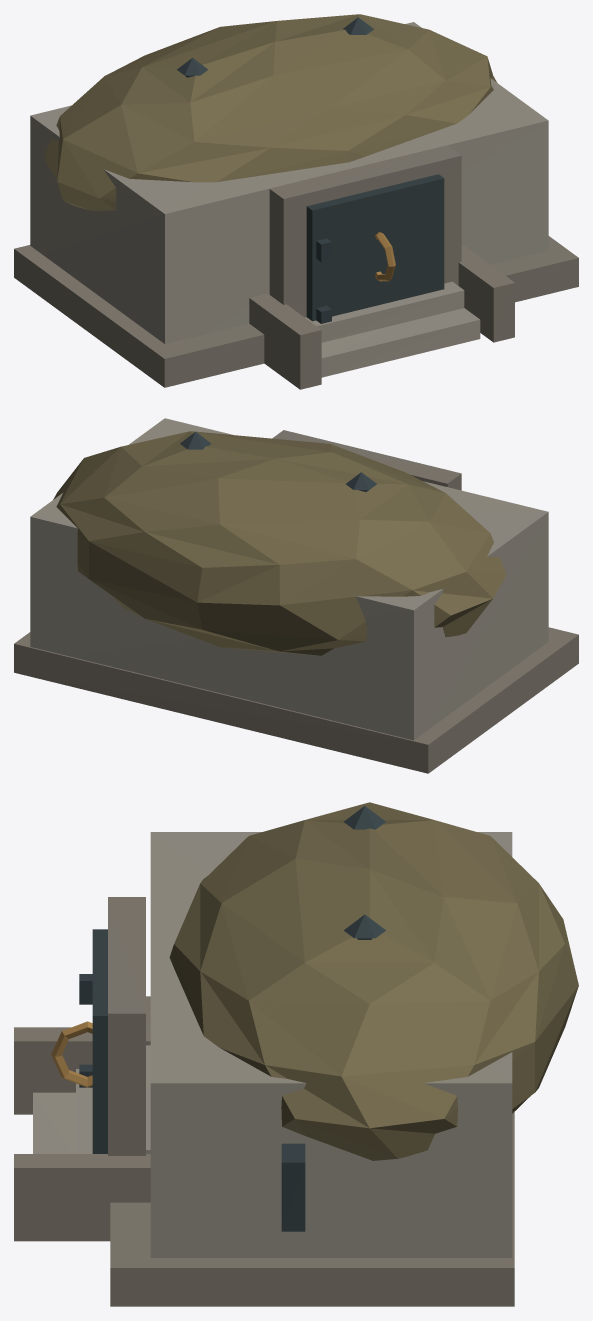
Rendered from seed-vault.source.glb.
The picture shows the model from 3 angles, top to bottom: view 1: azimuth 30°, elevation 25°; view 2: azimuth 150°, elevation 25°; view 3: azimuth 270°, elevation 25°; orthographic projection. The views are drawn at different scales.
Parts seen in each view (by area): view 1: seed-vault-low-faceted-earth-cover-mesh, seed-vault-reinforced-vault-body-mesh, seed-vault-sealed-dark-metal-hatch-mesh, seed-vault-stone-foundation-mesh, seed-vault-reinforced-entrance-facade-mesh, seed-vault-concrete-entry-step-mesh (×2), seed-vault-low-entry-retaining-wall-mesh (×2), seed-vault-hatch-wheel-handle-mesh; view 2: seed-vault-low-faceted-earth-cover-mesh, seed-vault-reinforced-vault-body-mesh, seed-vault-stone-foundation-mesh, seed-vault-reinforced-entrance-facade-mesh; view 3: seed-vault-low-faceted-earth-cover-mesh, seed-vault-reinforced-vault-body-mesh, seed-vault-stone-foundation-mesh, seed-vault-low-entry-retaining-wall-mesh (×2), seed-vault-reinforced-entrance-facade-mesh, seed-vault-concrete-entry-step-mesh (×2), seed-vault-sealed-dark-metal-hatch-mesh, seed-vault-compact-service-panel-mesh, seed-vault-hatch-wheel-handle-mesh, seed-vault-ventilation-cap-mesh.
Part boxes in pixels (left/top/right/bottom): seed-vault-low-faceted-earth-cover-mesh: left=44, top=14, right=497, bottom=210; seed-vault-reinforced-vault-body-mesh: left=30, top=22, right=548, bottom=343; seed-vault-sealed-dark-metal-hatch-mesh: left=306, top=174, right=444, bottom=321; seed-vault-stone-foundation-mesh: left=14, top=236, right=578, bottom=387; seed-vault-reinforced-entrance-facade-mesh: left=269, top=145, right=461, bottom=317; seed-vault-concrete-entry-step-mesh (×2): left=305, top=281, right=480, bottom=377; seed-vault-low-entry-retaining-wall-mesh (×2): left=249, top=245, right=514, bottom=389; seed-vault-hatch-wheel-handle-mesh: left=375, top=232, right=395, bottom=281; seed-vault-low-faceted-earth-cover-mesh: left=53, top=431, right=506, bottom=655; seed-vault-reinforced-vault-body-mesh: left=30, top=418, right=548, bottom=740; seed-vault-stone-foundation-mesh: left=14, top=627, right=578, bottom=773; seed-vault-reinforced-entrance-facade-mesh: left=272, top=430, right=461, bottom=490; seed-vault-low-faceted-earth-cover-mesh: left=169, top=802, right=578, bottom=1160; seed-vault-reinforced-vault-body-mesh: left=150, top=832, right=512, bottom=1257; seed-vault-stone-foundation-mesh: left=110, top=996, right=514, bottom=1306; seed-vault-low-entry-retaining-wall-mesh (×2): left=14, top=1027, right=150, bottom=1241; seed-vault-reinforced-entrance-facade-mesh: left=108, top=897, right=145, bottom=1155; seed-vault-concrete-entry-step-mesh (×2): left=33, top=1069, right=92, bottom=1153; seed-vault-sealed-dark-metal-hatch-mesh: left=92, top=929, right=107, bottom=1153; seed-vault-compact-service-panel-mesh: left=281, top=1143, right=305, bottom=1231; seed-vault-hatch-wheel-handle-mesh: left=51, top=1021, right=92, bottom=1087; seed-vault-ventilation-cap-mesh: left=343, top=914, right=385, bottom=938.
Bounding box in the file's own units: 2.86 × 1.44 × 2.38.
